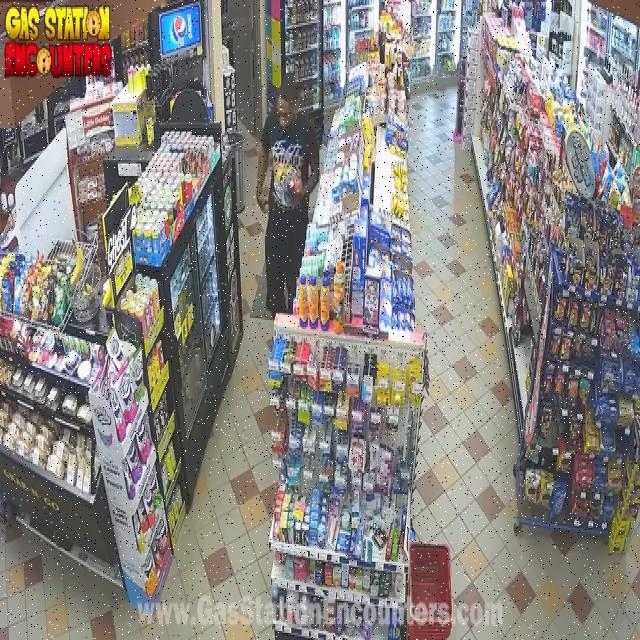article: (293, 178, 301, 192)
person: (256, 78, 319, 315)
